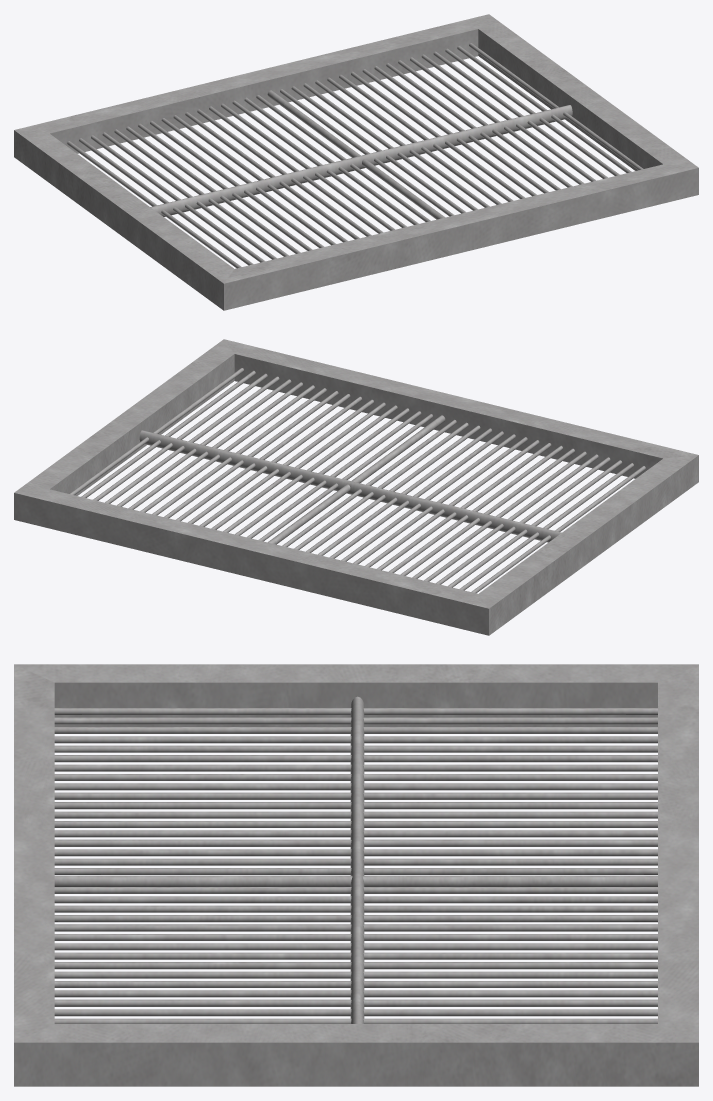
File: LC_3050_vent_LOD3.FBX
The picture shows the model from 3 angles, top to bottom: view 1: azimuth 30°, elevation 25°; view 2: azimuth 150°, elevation 25°; view 3: azimuth 270°, elevation 25°; orthographic projection. The views are drawn at different scales.
Parts seen in each view (by area): view 1: LC_3050_vent_LOD3; view 2: LC_3050_vent_LOD3; view 3: LC_3050_vent_LOD3.
Boxes of the visible parts, x1,y1,x2,y2 form: LC_3050_vent_LOD3: [14, 14, 698, 310]; LC_3050_vent_LOD3: [14, 339, 698, 635]; LC_3050_vent_LOD3: [14, 664, 698, 1086].
Bounding box in the file's own units: 84.77 × 4.62 × 64.87.
